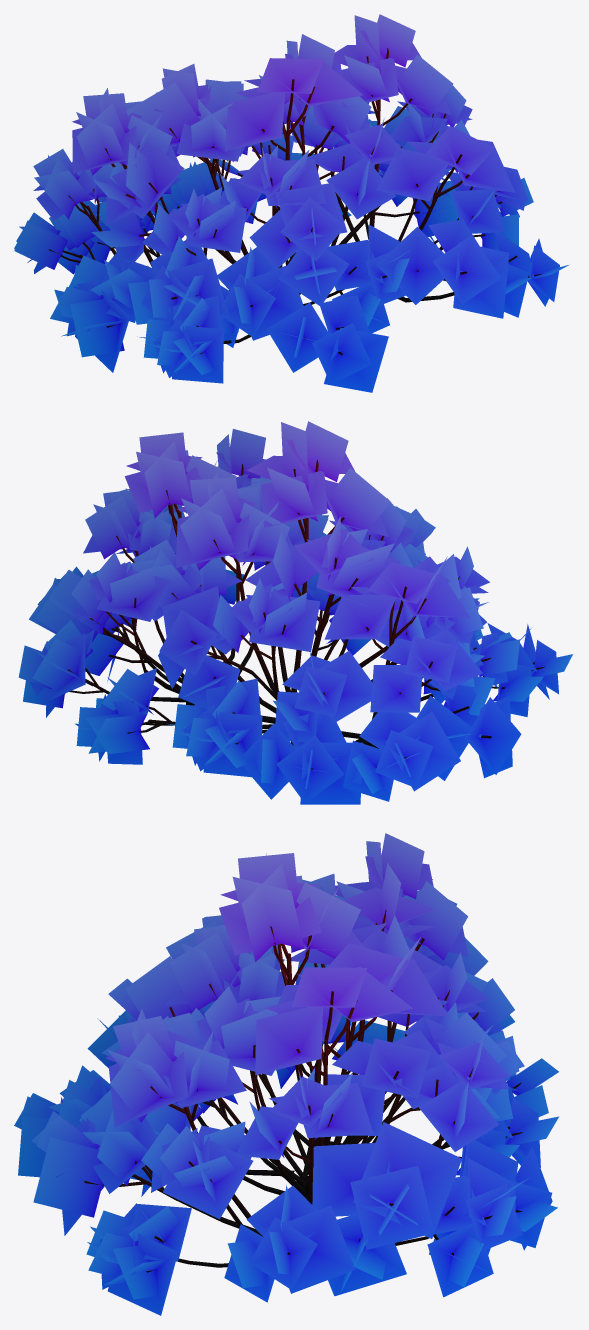
File: SM_Env_Bush_Tropical_02.gltf
3 views of the same model, one above another, from view 1: azimuth 30°, elevation 25°; view 2: azimuth 150°, elevation 25°; view 3: azimuth 270°, elevation 25° (orthographic). The views are drawn at different scales.
Visible parts, largest first — view 1: SM_Env_Bush_Tropical_02_LOD0; view 2: SM_Env_Bush_Tropical_02_LOD0; view 3: SM_Env_Bush_Tropical_02_LOD0.
Boxes of the visible parts, <box> form: SM_Env_Bush_Tropical_02_LOD0: <box>14,14,569,392</box>; SM_Env_Bush_Tropical_02_LOD0: <box>18,421,572,804</box>; SM_Env_Bush_Tropical_02_LOD0: <box>14,833,559,1315</box>.
Size of the model in its own units: 3.58 by 2.11 by 3.04.
